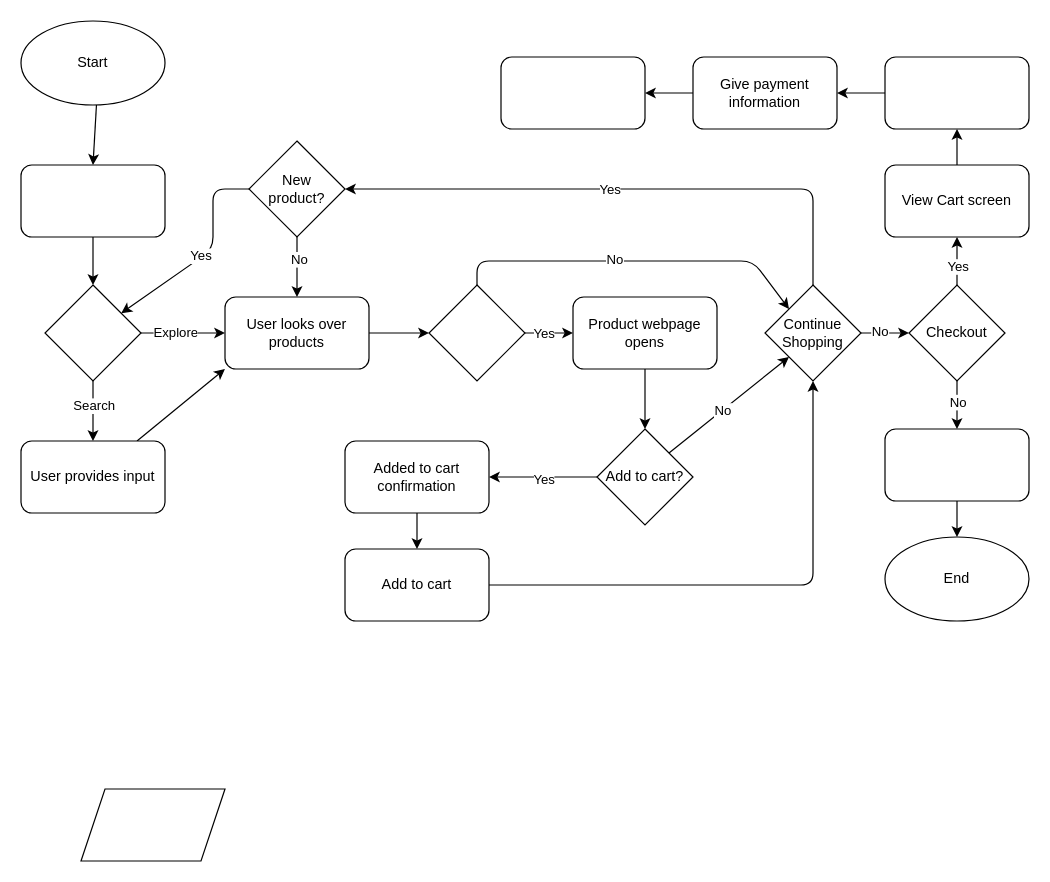
The diagram is 1050 pixels wide and 882 high, and some of its shapes have lost their labels. The centre of each missing label's shape, as x and y in pixels:
Data: the point at 152,824
Order and email confirmation: the point at 572,92
Products: the point at 92,332
User enters website: the point at 92,200
User leaves website: the point at 956,464
View Payment: the point at 956,92
View product: the point at 476,332
